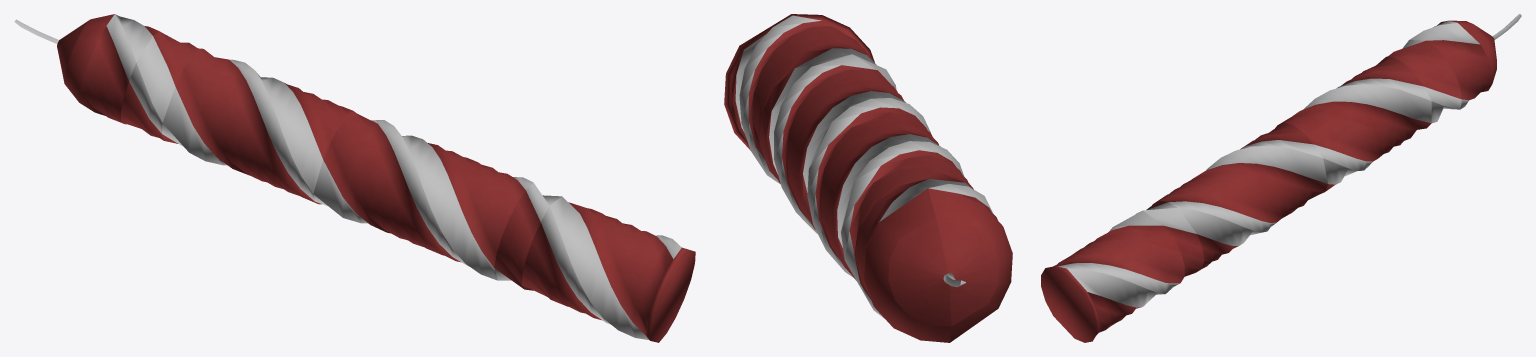
The model's file is candle.obj.
The picture shows the model from 3 angles, left to right: view 1: azimuth 30°, elevation 25°; view 2: azimuth 150°, elevation 25°; view 3: azimuth 270°, elevation 25°; orthographic projection. The views are drawn at different scales.
Parts seen in each view (by area): view 1: dynamic; view 2: dynamic; view 3: dynamic.
Part boxes in pixels (left/top/right/bottom): dynamic: left=14, top=14, right=695, bottom=342; dynamic: left=724, top=14, right=1012, bottom=342; dynamic: left=1041, top=14, right=1521, bottom=342.
Size of the model in its own units: 12.42 by 6.59 by 14.99.
Materials: 2 (2 with a texture image).
